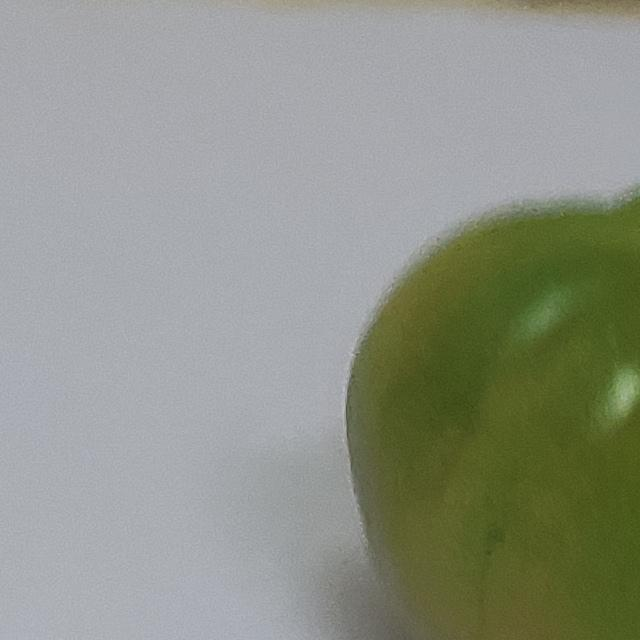tomato: (328, 0, 640, 640)
